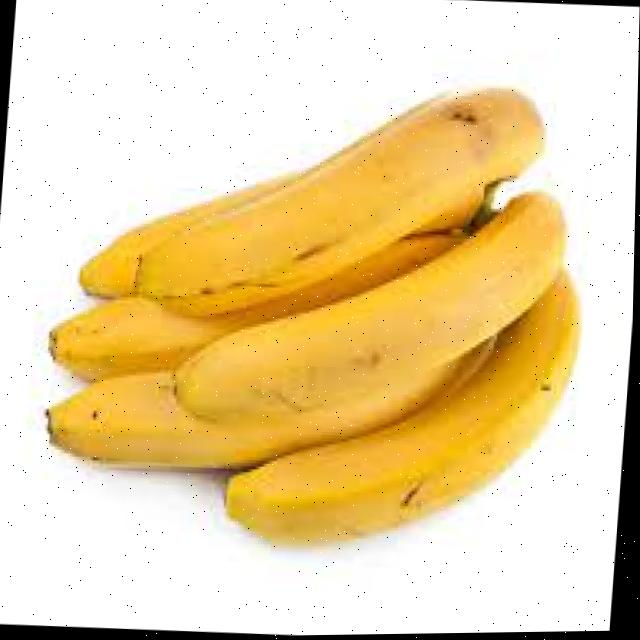Banana: (81, 92, 544, 297), (233, 275, 580, 542), (176, 198, 560, 419), (49, 372, 365, 468), (52, 297, 244, 380)
